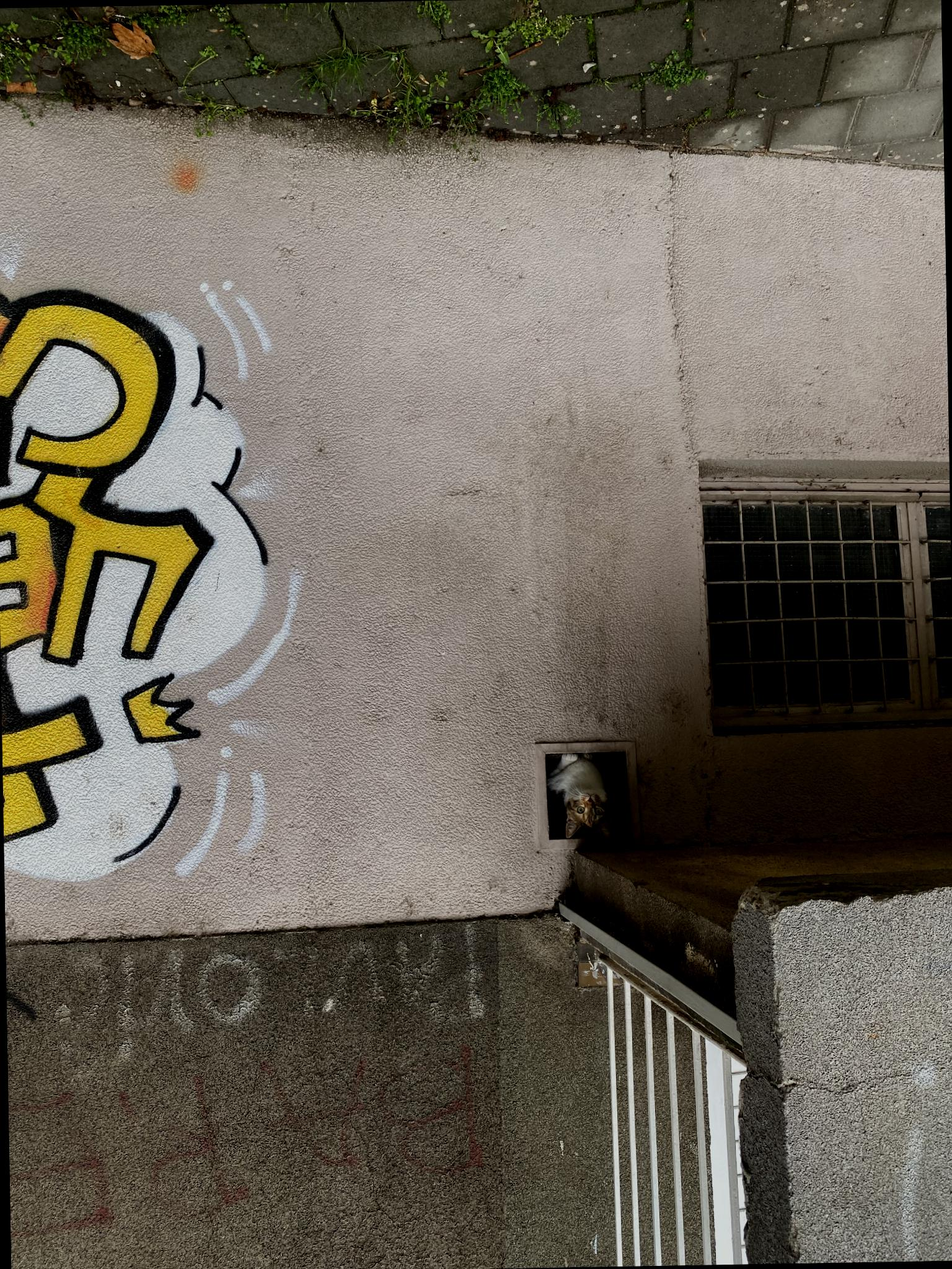macka: (546, 752, 616, 841)
